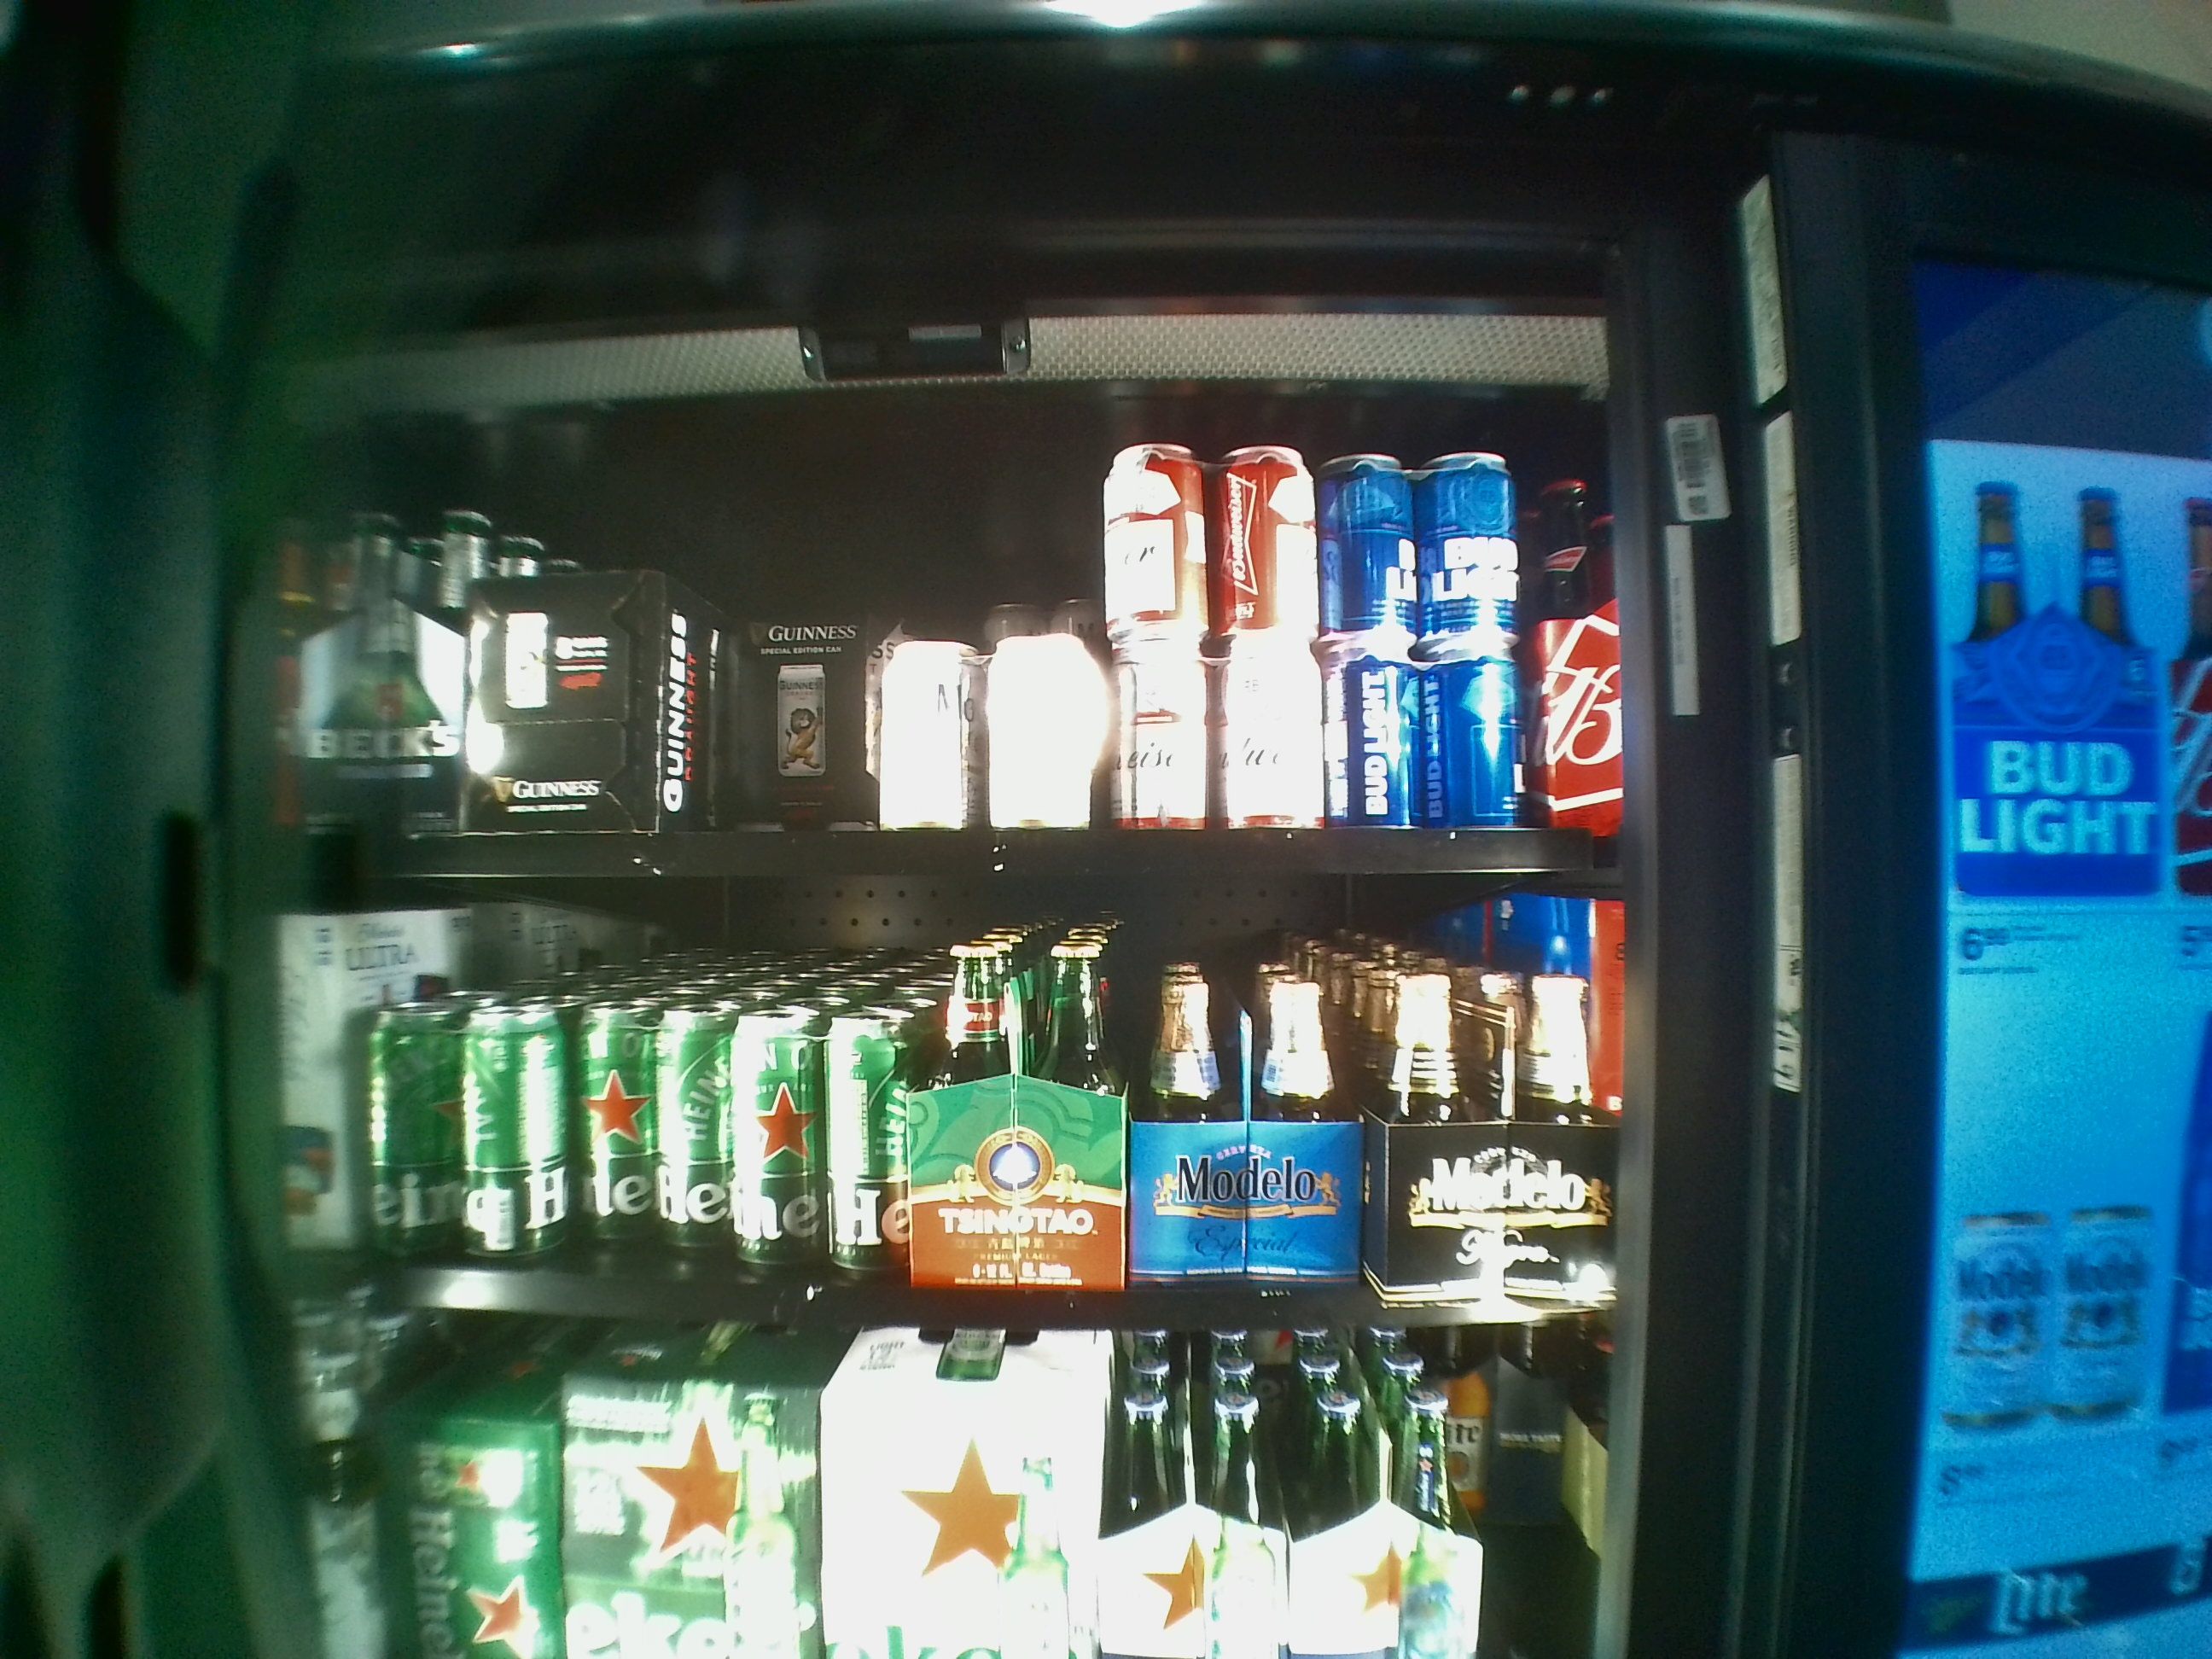shelf: (293, 436, 1618, 889), (284, 903, 1616, 1338)
